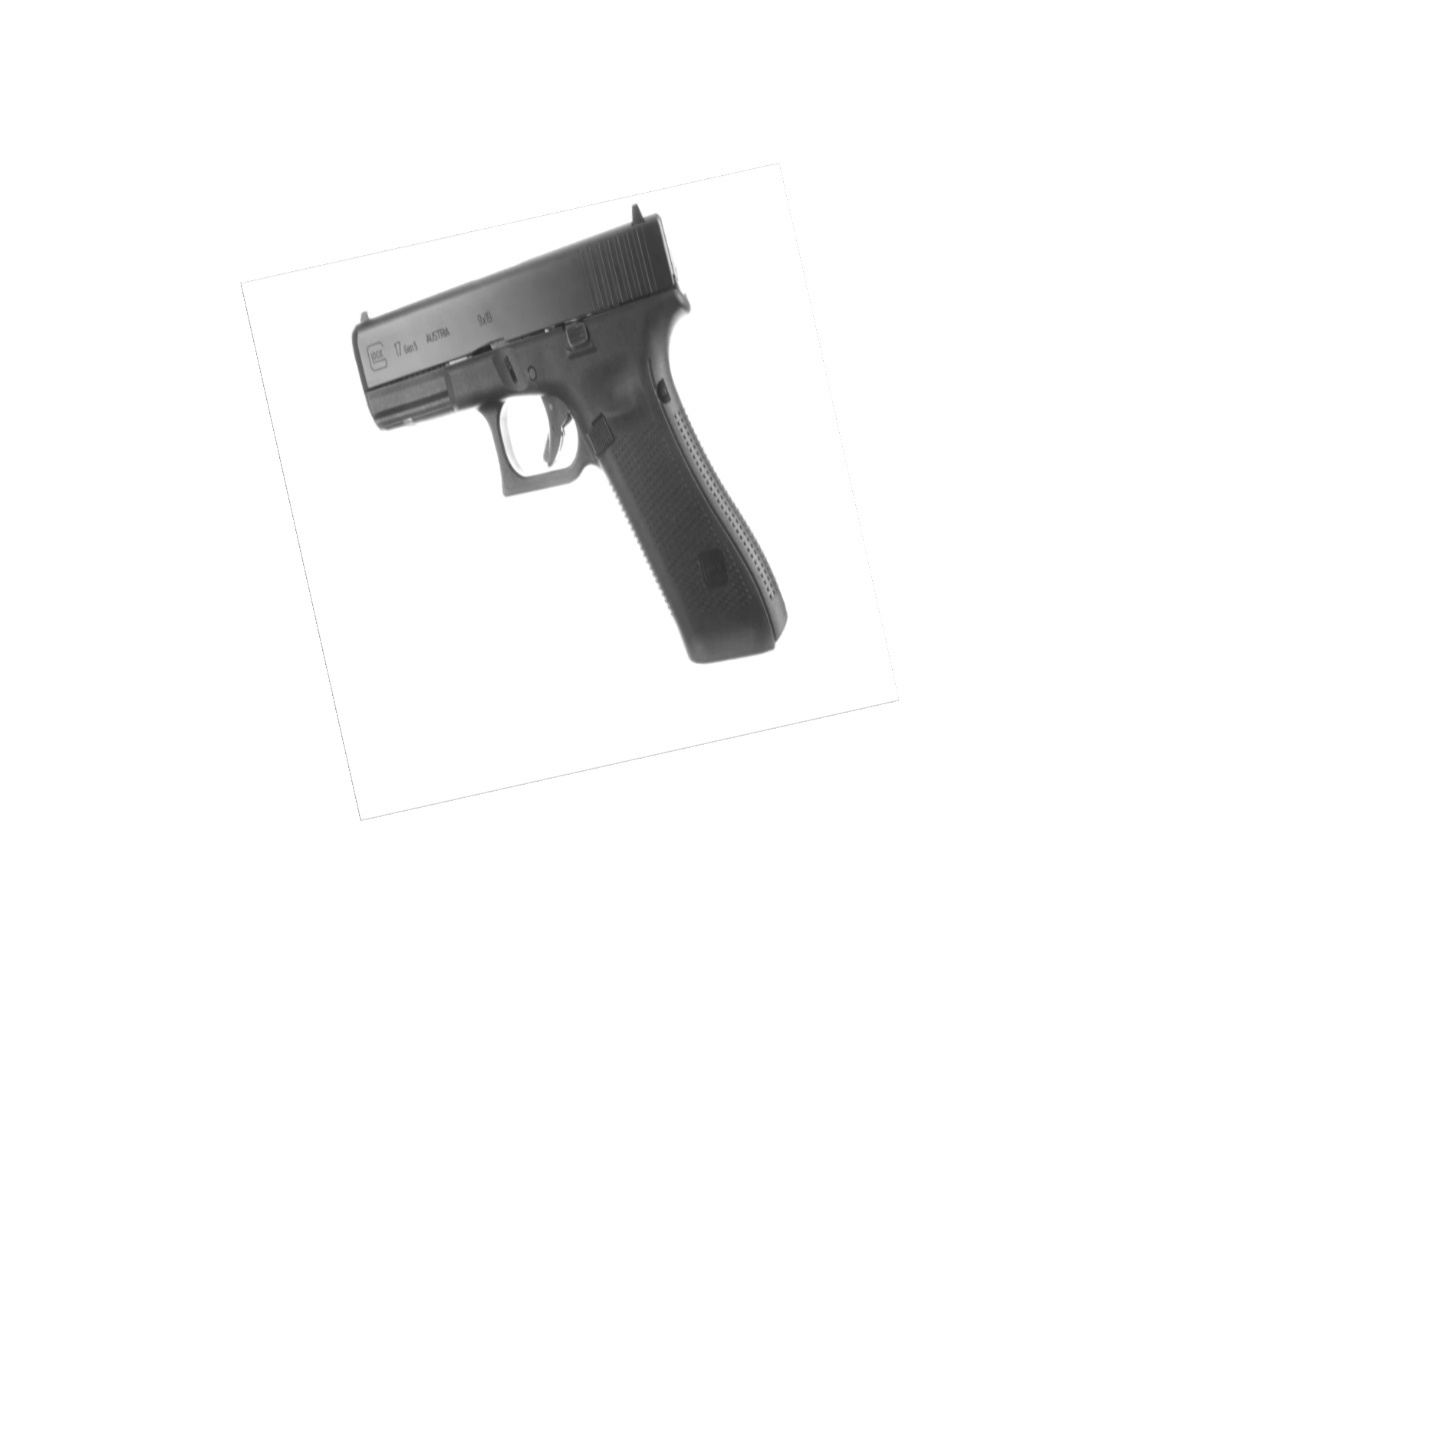gun: (338, 198, 805, 679)
